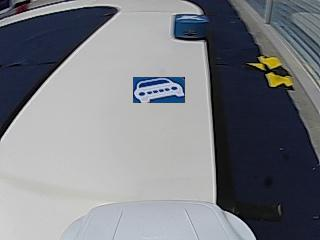prop: (173, 14, 209, 41)
